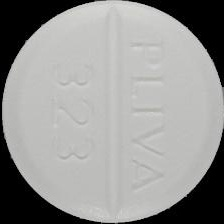50111-323: (0, 0, 224, 224)
